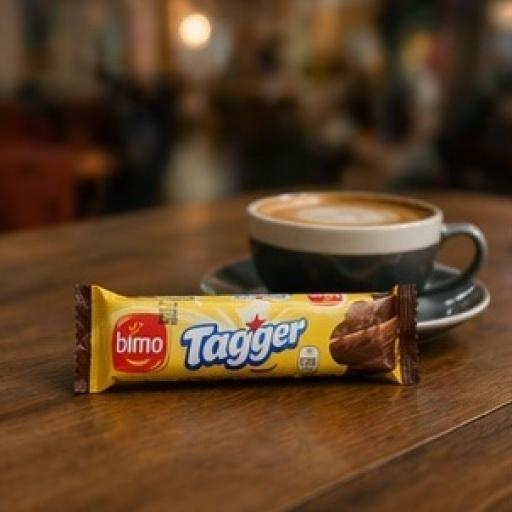tagger: (52, 213, 449, 455)
